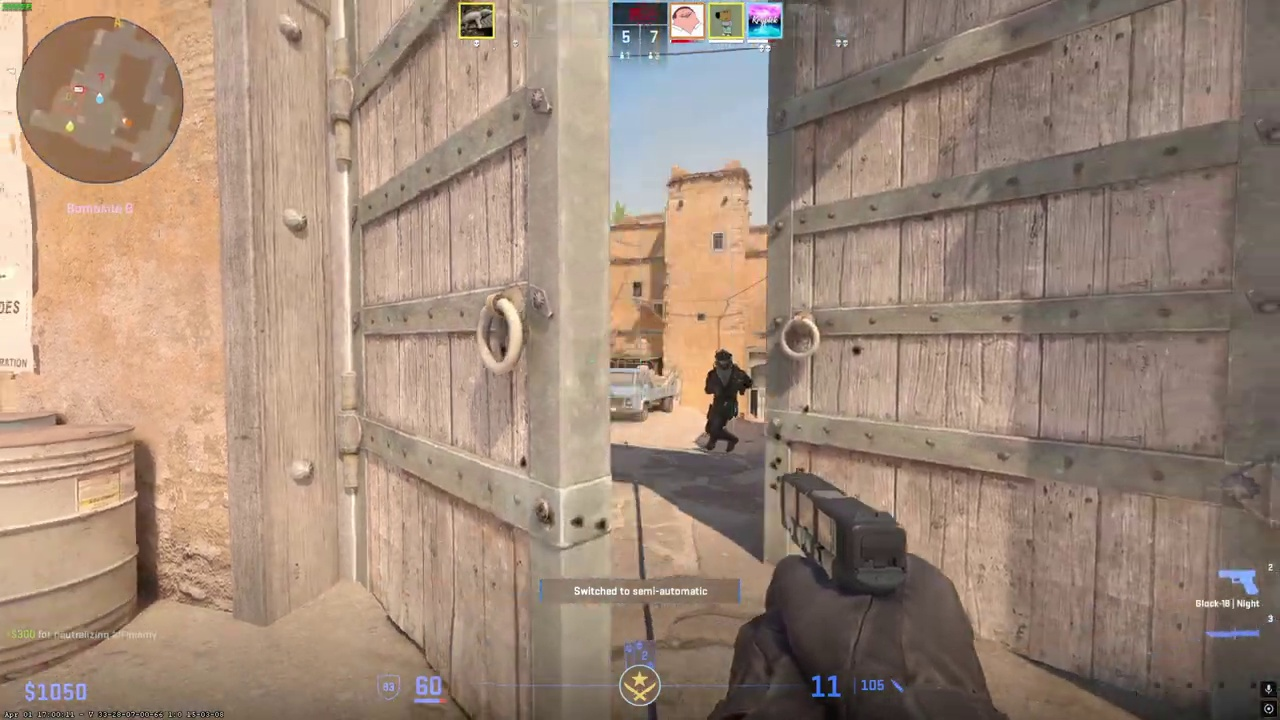CT: (704, 349, 748, 452)
